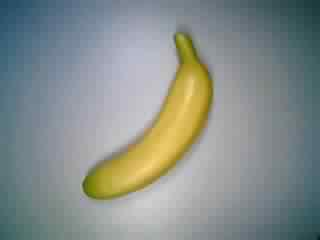banana: (79, 30, 217, 204)
